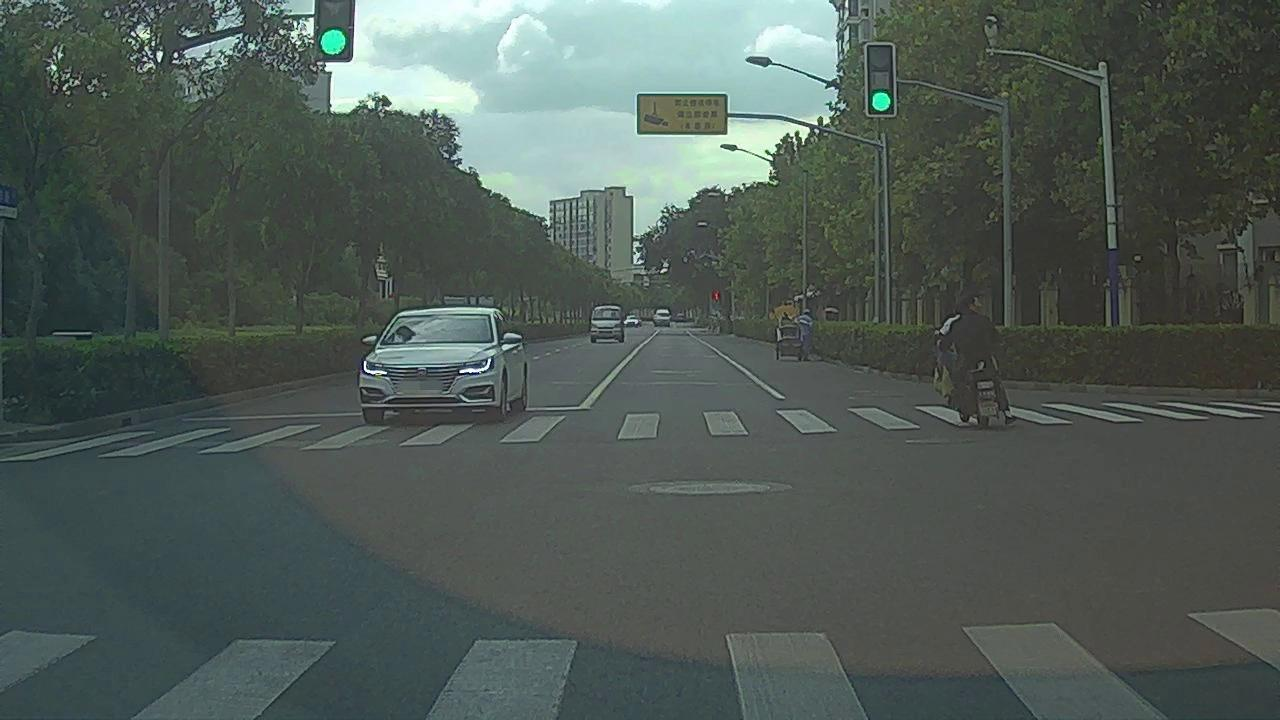traffic_light: (866, 43, 896, 115), (316, 1, 349, 61)
